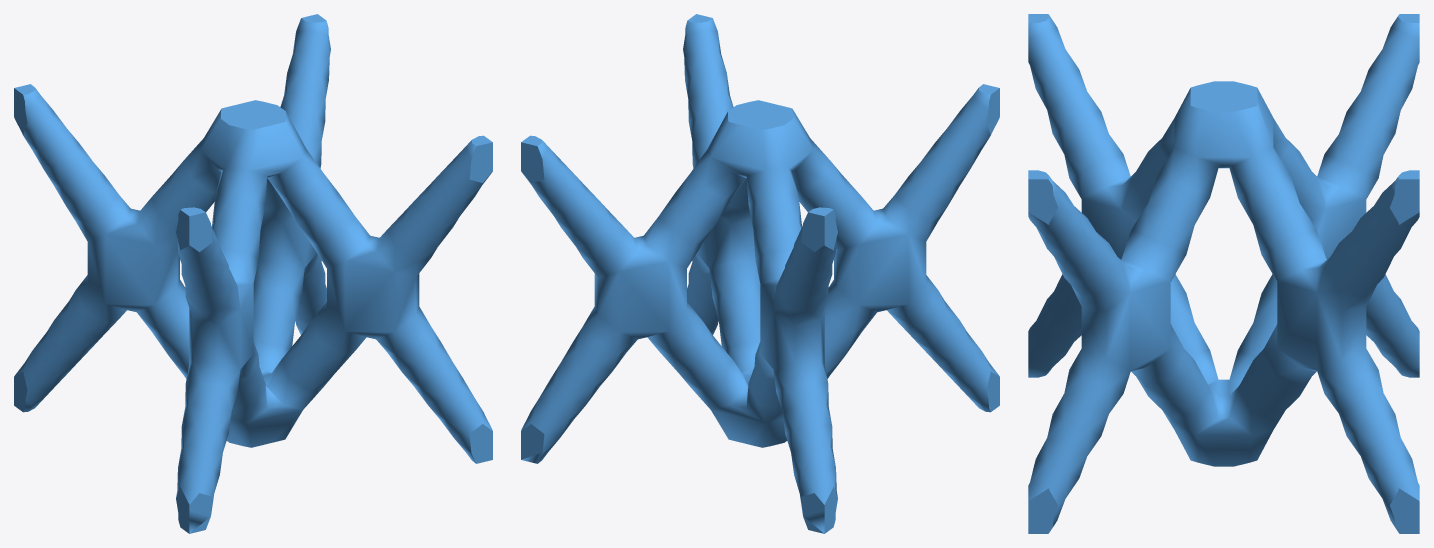
Rendered from Variation2.glb.
The picture shows the model from 3 angles, left to right: view 1: azimuth 30°, elevation 25°; view 2: azimuth 150°, elevation 25°; view 3: azimuth 270°, elevation 25°; orthographic projection. The views are drawn at different scales.
Visible parts, largest first — view 1: Mesh_0.008; view 2: Mesh_0.008; view 3: Mesh_0.008.
Part boxes in pixels (x1,y1,x2,y2): Mesh_0.008: (14,14,492,533); Mesh_0.008: (521,14,999,533); Mesh_0.008: (1028,14,1419,533).
Size of the model in its own units: 1 by 1 by 1.
